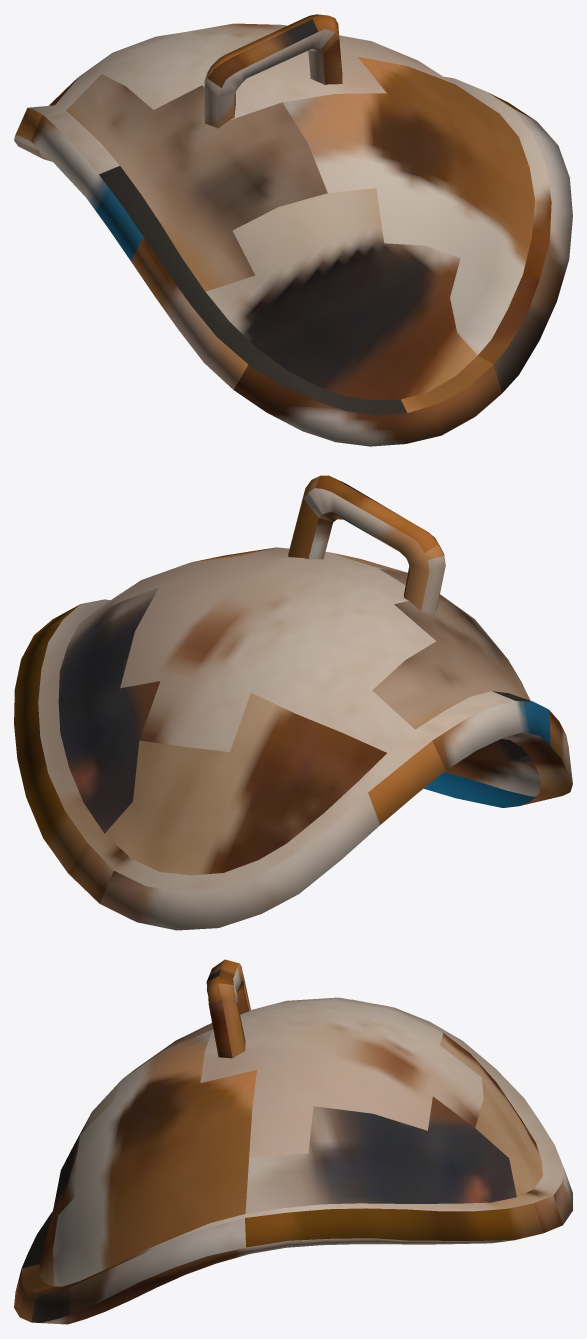
File: sir_bonk_v2_lid.fbx
The picture shows the model from 3 angles, top to bottom: view 1: azimuth 30°, elevation 25°; view 2: azimuth 150°, elevation 25°; view 3: azimuth 270°, elevation 25°; orthographic projection. The views are drawn at different scales.
Parts seen in each view (by area): view 1: SirBonk_Lid; view 2: SirBonk_Lid; view 3: SirBonk_Lid.
Boxes of the visible parts, x1=… form: SirBonk_Lid: x1=14, y1=14, x2=572, y2=446; SirBonk_Lid: x1=14, y1=475, x2=572, y2=930; SirBonk_Lid: x1=14, y1=959, x2=572, y2=1324.
Bounding box in the file's own units: 11.24 × 8.58 × 13.18.
